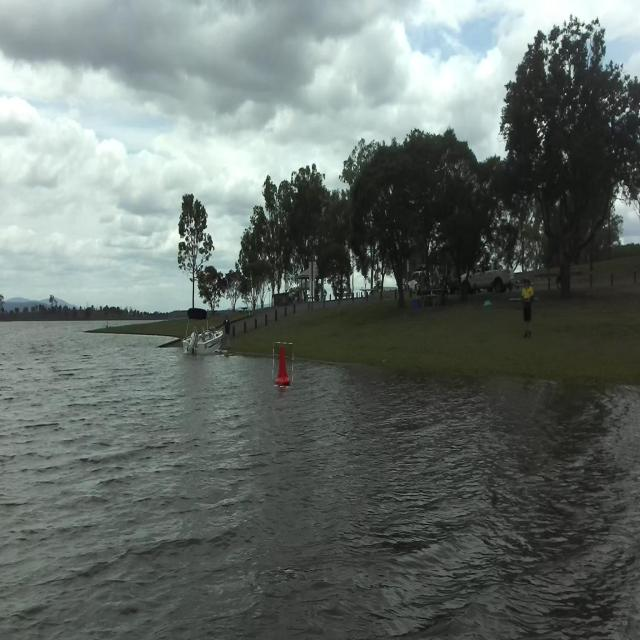Red_Buoy: (270, 346, 299, 398)
